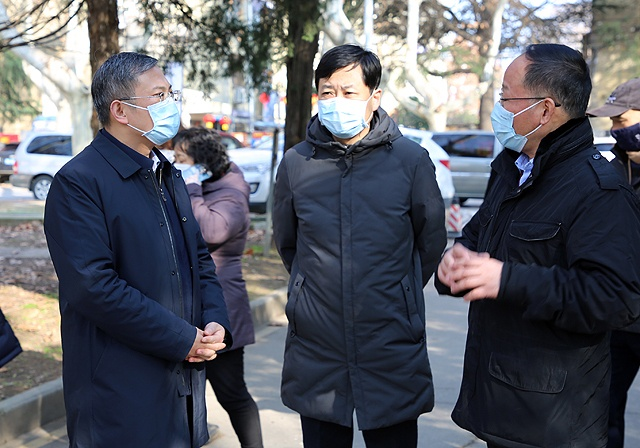correctlyWear: (489, 76, 555, 153), (110, 83, 181, 146), (316, 72, 382, 138), (601, 106, 640, 154), (173, 142, 204, 185)
